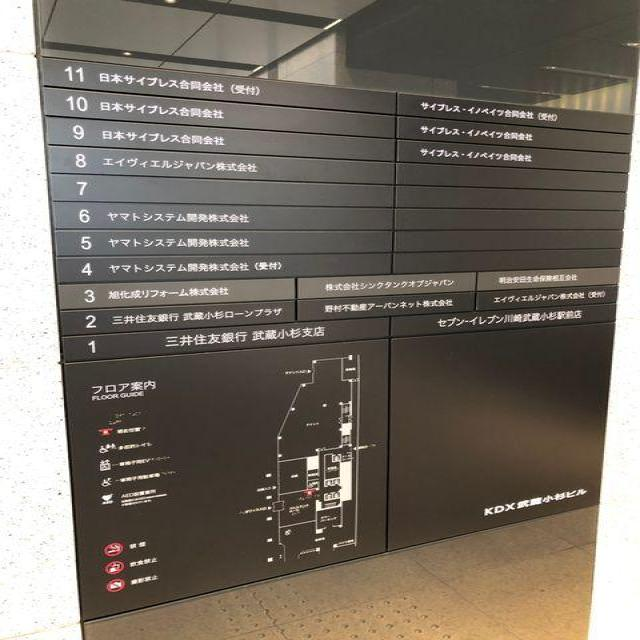building: (478, 484, 591, 520)
facility: (95, 67, 262, 100), (159, 323, 329, 351), (108, 305, 285, 329), (99, 154, 269, 177), (418, 99, 562, 125), (433, 308, 588, 331), (98, 98, 227, 123), (106, 259, 285, 277), (98, 127, 232, 151), (417, 122, 538, 145), (415, 145, 539, 166), (104, 283, 234, 303), (321, 297, 460, 315), (103, 210, 256, 226), (105, 235, 257, 251), (322, 277, 460, 294), (490, 289, 611, 306), (494, 272, 581, 286)
floor: (62, 92, 94, 115), (61, 62, 92, 85), (67, 122, 93, 143), (70, 178, 96, 198), (77, 286, 101, 306), (81, 338, 106, 357), (74, 234, 99, 253), (75, 260, 100, 278), (69, 151, 93, 169), (73, 206, 96, 224), (80, 313, 103, 330)
